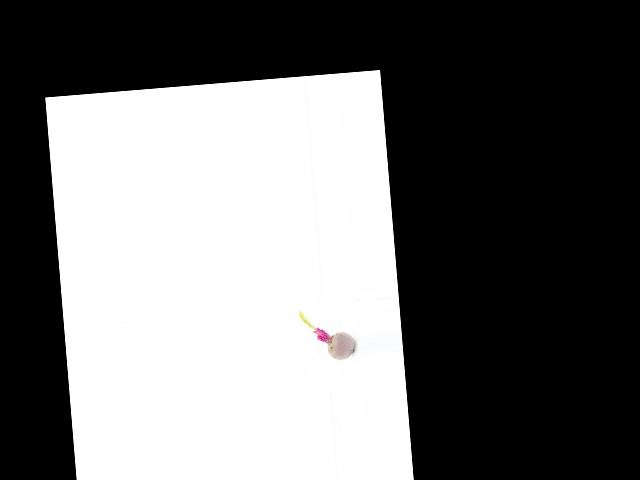beet: (299, 307, 355, 363)
